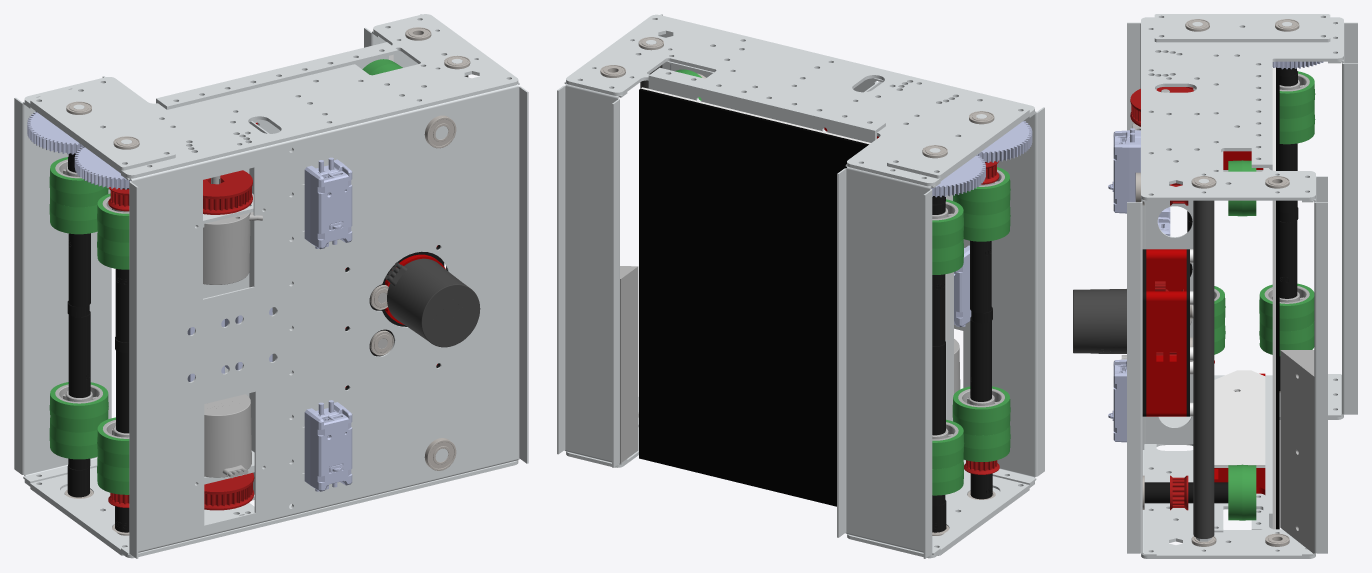
3 renders of one model, left to right at view 1: azimuth 30°, elevation 25°; view 2: azimuth 150°, elevation 25°; view 3: azimuth 270°, elevation 25°, orthographic. The views are drawn at different scales.
Parts seen in each view (by area): view 1: NAUO109, NAUO106, NAUO108, NAUO105 (×8), NAUO43, NAUO107, NAUO5, NAUO26, NAUO25, NAUO11, NAUO21, NAUO6 (+12 smaller); view 2: NAUO20, NAUO108, NAUO112, NAUO106, NAUO109, NAUO105 (×8), NAUO21, NAUO5, NAUO107, NAUO32, NAUO74, NAUO75 (+6 smaller); view 3: NAUO106, NAUO109, NAUO105 (×7), NAUO36, NAUO107, NAUO108, NAUO32, NAUO112, NAUO61, NAUO16, NAUO5, NAUO43 (+19 smaller).
Part boxes in pixels (x1,y1,x2,y2): NAUO109: (121,82,528,558); NAUO106: (24,14,518,178); NAUO108: (14,76,111,483); NAUO105 (×8): (49,157,129,494); NAUO43: (385,258,480,347); NAUO107: (24,460,518,558); NAUO5: (30,86,175,170); NAUO26: (304,400,352,491); NAUO25: (304,157,352,249); NAUO11: (204,394,251,478); NAUO21: (156,42,398,109); NAUO6: (203,176,262,284); NAUO20: (639,88,868,506); NAUO108: (837,164,940,558); NAUO112: (557,81,627,467); NAUO106: (566,14,1034,186); NAUO109: (658,14,1044,484); NAUO105 (×8): (932,167,1010,495); NAUO21: (648,67,885,142); NAUO5: (887,96,1029,178); NAUO107: (566,397,1034,558); NAUO32: (620,266,638,463); NAUO74: (970,317,991,401); NAUO75: (970,240,991,313); NAUO106: (1141,17,1343,200); NAUO109: (1127,22,1156,555); NAUO105 (×7): (1214,71,1315,520); NAUO36: (1193,200,1214,538); NAUO107: (1141,375,1343,558); NAUO108: (1328,22,1357,416); NAUO32: (1280,350,1314,553); NAUO112: (1302,176,1327,555); NAUO61: (1146,291,1186,416); NAUO16: (1214,370,1265,467); NAUO5: (1154,14,1330,42); NAUO43: (1073,289,1126,353).
Bounding box in the file's own units: 0.4048 × 0.372 × 0.2585.
